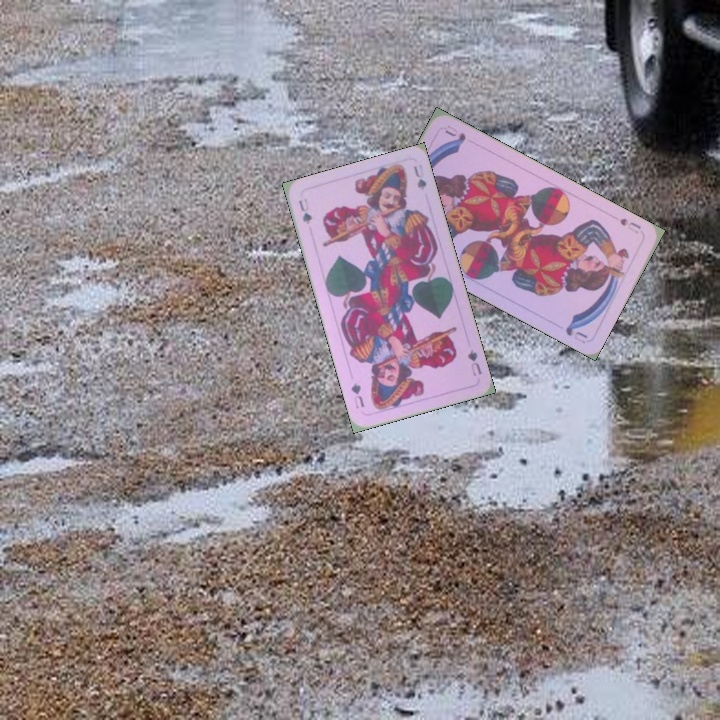GU: (463, 345, 484, 379), (294, 194, 314, 227)
SU: (616, 214, 643, 236)
